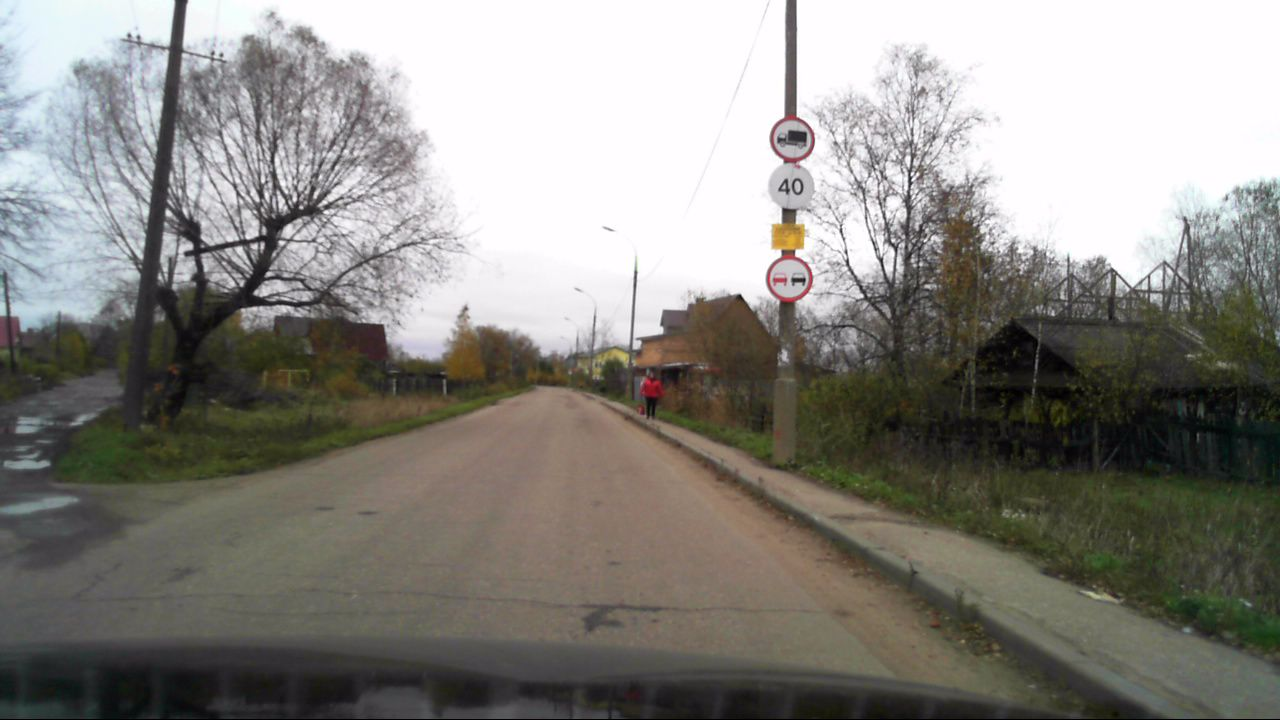speed_warning_40: (766, 163, 816, 211)
